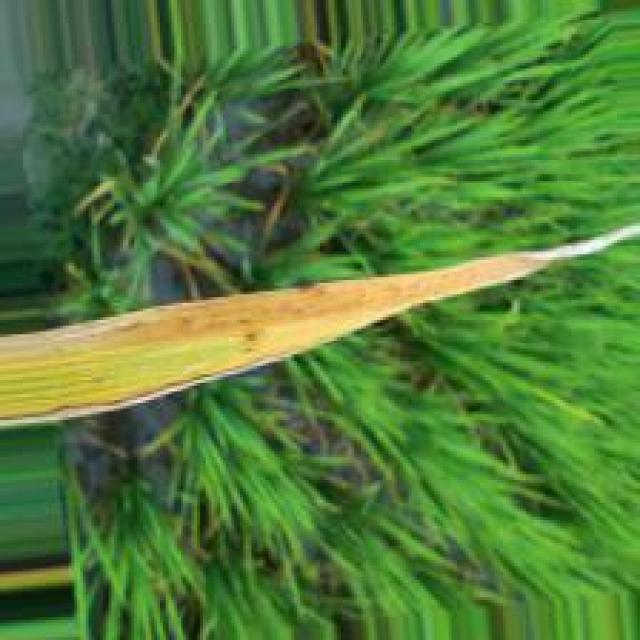Bacterial_Leaf_Blight: (1, 252, 549, 429)
